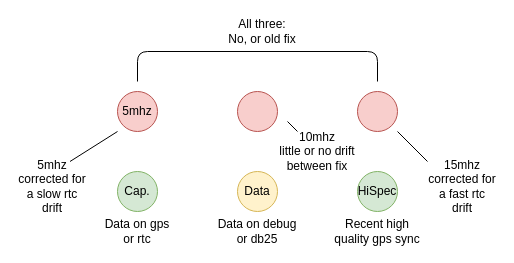
Some shapes in this 514 by 263 pixel diagram are drawn without their labels. Each missing label, with the centre of its shape:
10mhz: [257,111]
15mhz: [377,111]
